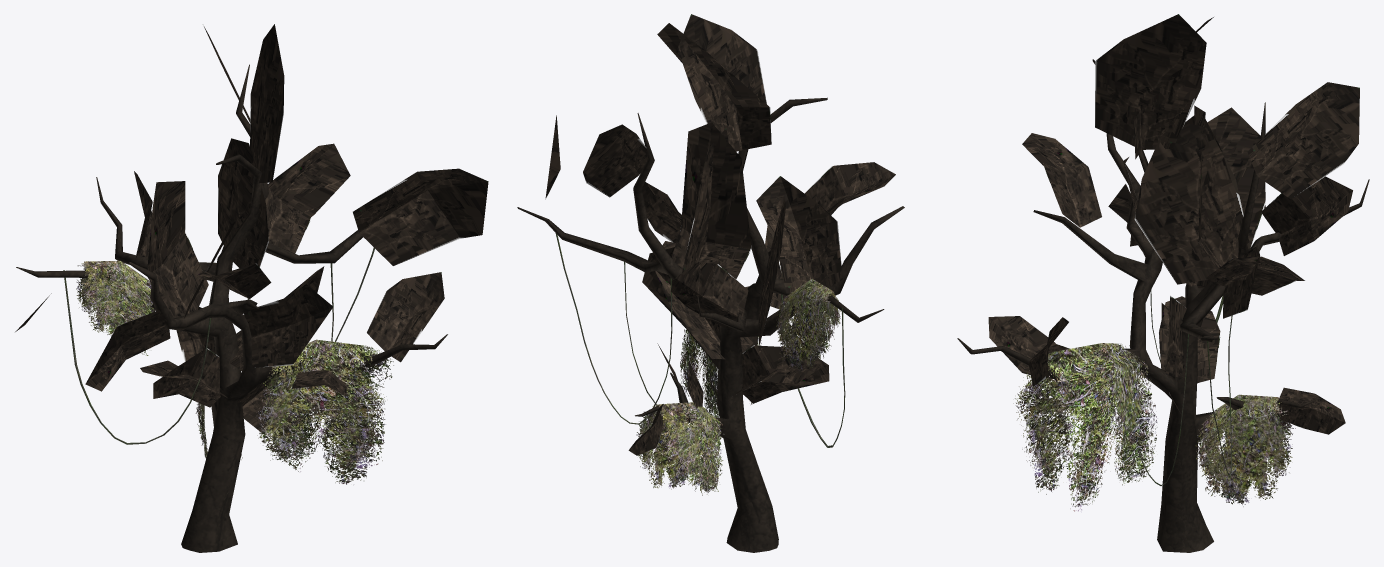
File: Tree 2 v1 - LOD 1.fbx
3 renders of one model, left to right at view 1: azimuth 30°, elevation 25°; view 2: azimuth 150°, elevation 25°; view 3: azimuth 270°, elevation 25°, orthographic. The views are drawn at different scales.
Visible parts, largest first — view 1: Branches 2 v1 - LOD 1, Hanging Moss 2 v1 - LOD 1, Bark 2 v1 - LOD 1, Vines 2 v1 - LOD 1; view 2: Branches 2 v1 - LOD 1, Bark 2 v1 - LOD 1, Hanging Moss 2 v1 - LOD 1, Vines 2 v1 - LOD 1; view 3: Branches 2 v1 - LOD 1, Hanging Moss 2 v1 - LOD 1, Bark 2 v1 - LOD 1, Vines 2 v1 - LOD 1.
Boxes of the visible parts, x1,y1,x2,y2 form: Branches 2 v1 - LOD 1: [15, 24, 488, 433]; Hanging Moss 2 v1 - LOD 1: [76, 260, 393, 484]; Bark 2 v1 - LOD 1: [16, 64, 447, 552]; Vines 2 v1 - LOD 1: [63, 247, 374, 444]; Branches 2 v1 - LOD 1: [545, 14, 895, 455]; Bark 2 v1 - LOD 1: [517, 97, 904, 552]; Hanging Moss 2 v1 - LOD 1: [636, 279, 841, 495]; Vines 2 v1 - LOD 1: [555, 233, 845, 447]; Branches 2 v1 - LOD 1: [988, 14, 1359, 434]; Hanging Moss 2 v1 - LOD 1: [1013, 343, 1295, 511]; Bark 2 v1 - LOD 1: [957, 59, 1369, 552]; Vines 2 v1 - LOD 1: [1122, 290, 1232, 485].
Size of the model in its own units: 22.33 by 26.97 by 17.95.
